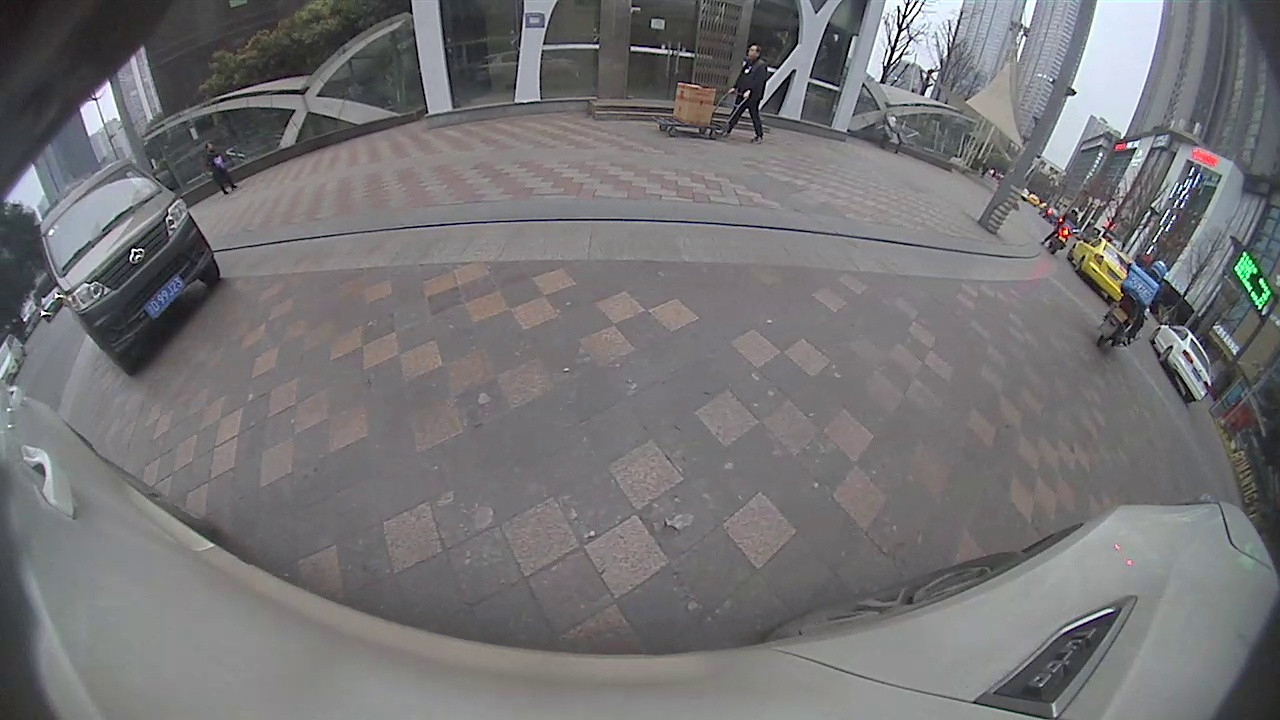car: (37, 157, 220, 375), (1067, 234, 1141, 304), (1150, 323, 1212, 403)
person: (725, 42, 765, 141)
rider: (1090, 258, 1170, 350)
